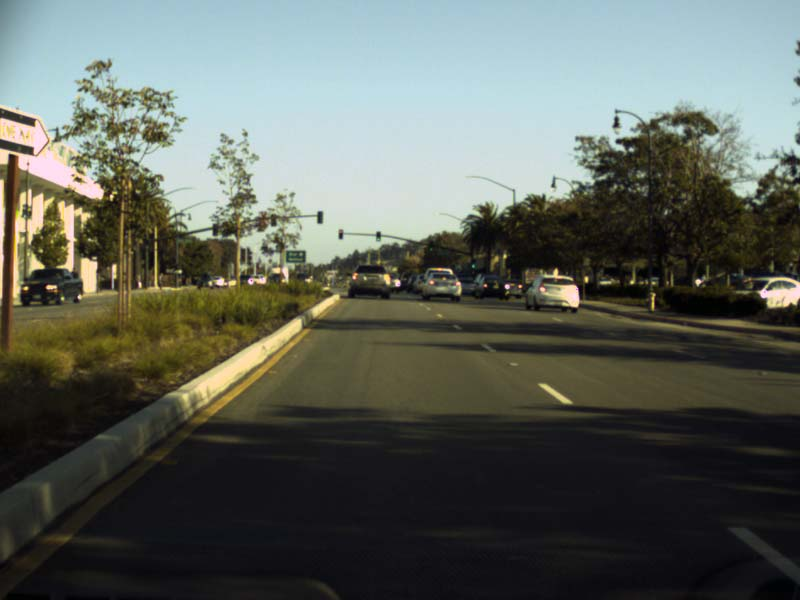Green: (375, 229, 380, 241), (429, 239, 433, 251), (471, 259, 475, 269)
Red: (338, 228, 343, 238)
